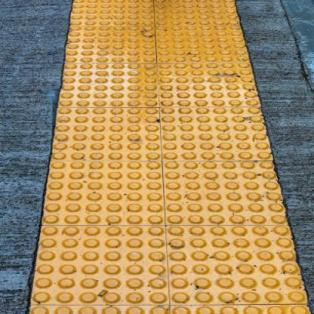Podoctatil: (26, 1, 311, 312)
